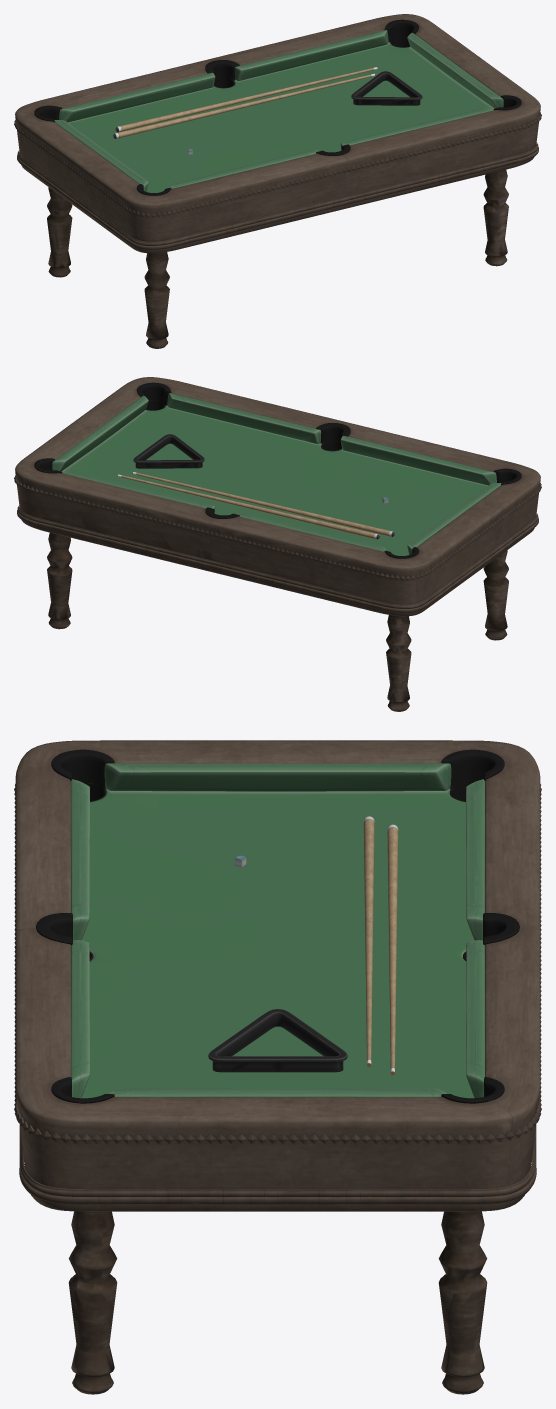
The model's file is table.glb.
The picture shows the model from 3 angles, top to bottom: view 1: azimuth 30°, elevation 25°; view 2: azimuth 150°, elevation 25°; view 3: azimuth 270°, elevation 25°; orthographic projection. The views are drawn at different scales.
Parts seen in each view (by area): view 1: Pool Table @Mark Peters on Sketchfab_PoolTable_MTL_0, Pool Cue @Mark Peters on Sketchfab_PoolCue_MTL_0, Ball Rack @Mark Peters on Sketchfab_BallRack_MTL_0; view 2: Pool Table @Mark Peters on Sketchfab_PoolTable_MTL_0, Pool Cue @Mark Peters on Sketchfab_PoolCue_MTL_0, Ball Rack @Mark Peters on Sketchfab_BallRack_MTL_0; view 3: Pool Table @Mark Peters on Sketchfab_PoolTable_MTL_0, Ball Rack @Mark Peters on Sketchfab_BallRack_MTL_0, Pool Cue @Mark Peters on Sketchfab_PoolCue_MTL_0.
Boxes of the visible parts, x1,y1,x2,y2 form: Pool Table @Mark Peters on Sketchfab_PoolTable_MTL_0: [14, 14, 541, 348]; Pool Cue @Mark Peters on Sketchfab_PoolCue_MTL_0: [113, 67, 377, 138]; Ball Rack @Mark Peters on Sketchfab_BallRack_MTL_0: [351, 71, 422, 105]; Pool Table @Mark Peters on Sketchfab_PoolTable_MTL_0: [14, 377, 541, 711]; Pool Cue @Mark Peters on Sketchfab_PoolCue_MTL_0: [117, 472, 394, 539]; Ball Rack @Mark Peters on Sketchfab_BallRack_MTL_0: [133, 434, 204, 468]; Pool Table @Mark Peters on Sketchfab_PoolTable_MTL_0: [14, 740, 541, 1394]; Ball Rack @Mark Peters on Sketchfab_BallRack_MTL_0: [208, 1009, 347, 1072]; Pool Cue @Mark Peters on Sketchfab_PoolCue_MTL_0: [363, 816, 398, 1075].
Bounding box in the file's own units: 2.36 × 0.881 × 1.38.
4 materials, 4 textured.
